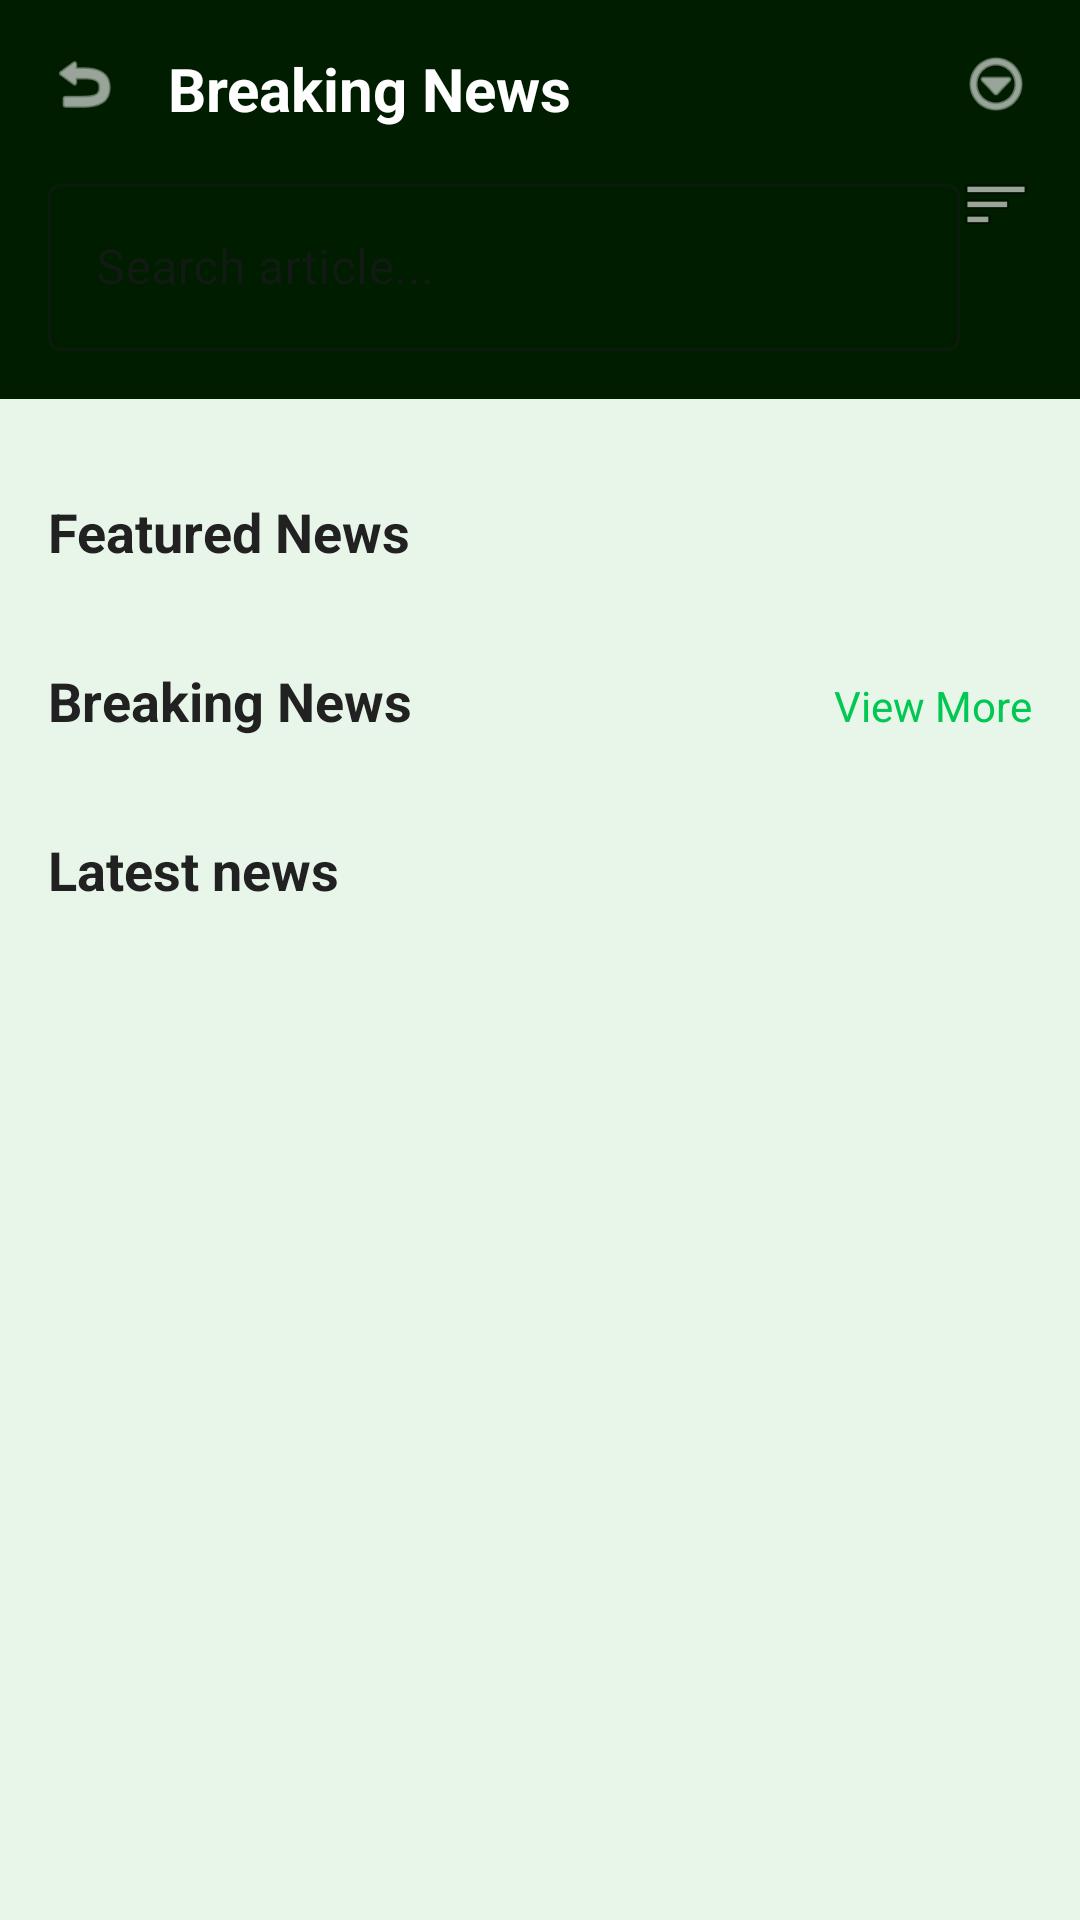

Screen size 1080*1920. Icon name, then its box in pixels as BBox(x1, y1, x2, y2):
Back: BBox(59, 61, 111, 108)
Filter: BBox(967, 186, 1025, 223)
